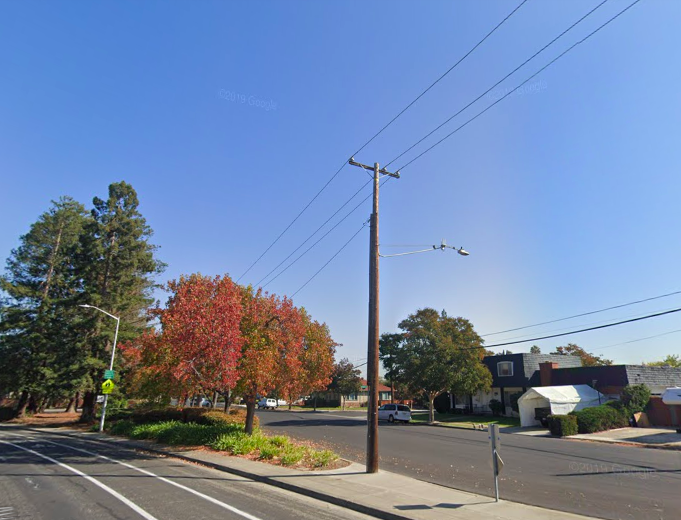utility_pole: (344, 151, 404, 197)
